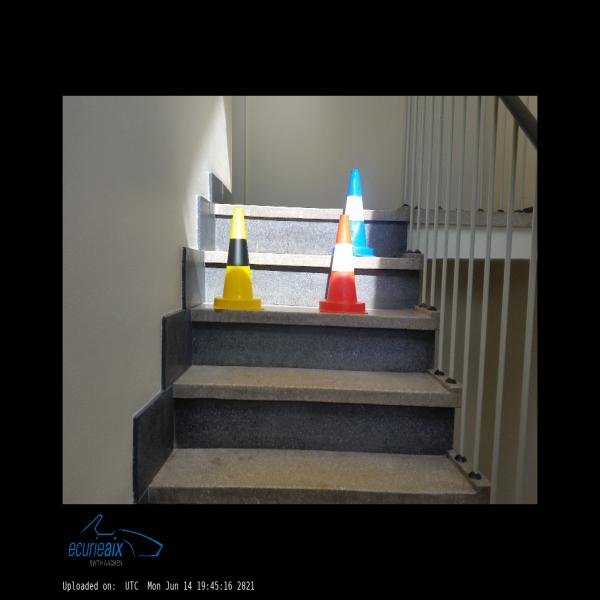blue_cone: (330, 169, 376, 256)
orange_cone: (319, 214, 368, 314)
yellow_cone: (213, 208, 264, 310)
